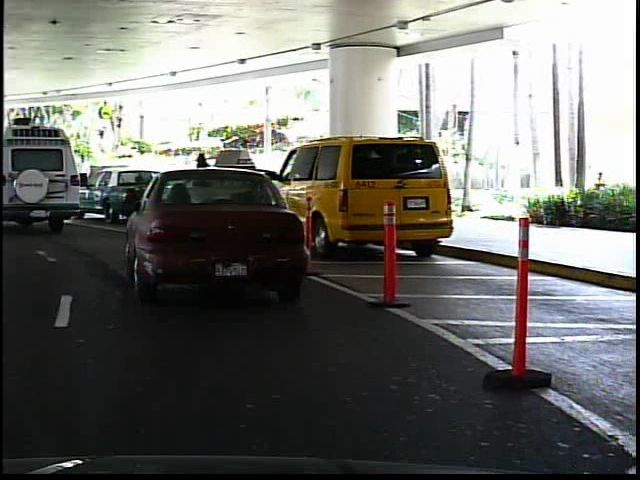person: (189, 145, 219, 213), (226, 142, 253, 212), (73, 150, 94, 201), (10, 158, 29, 196)
